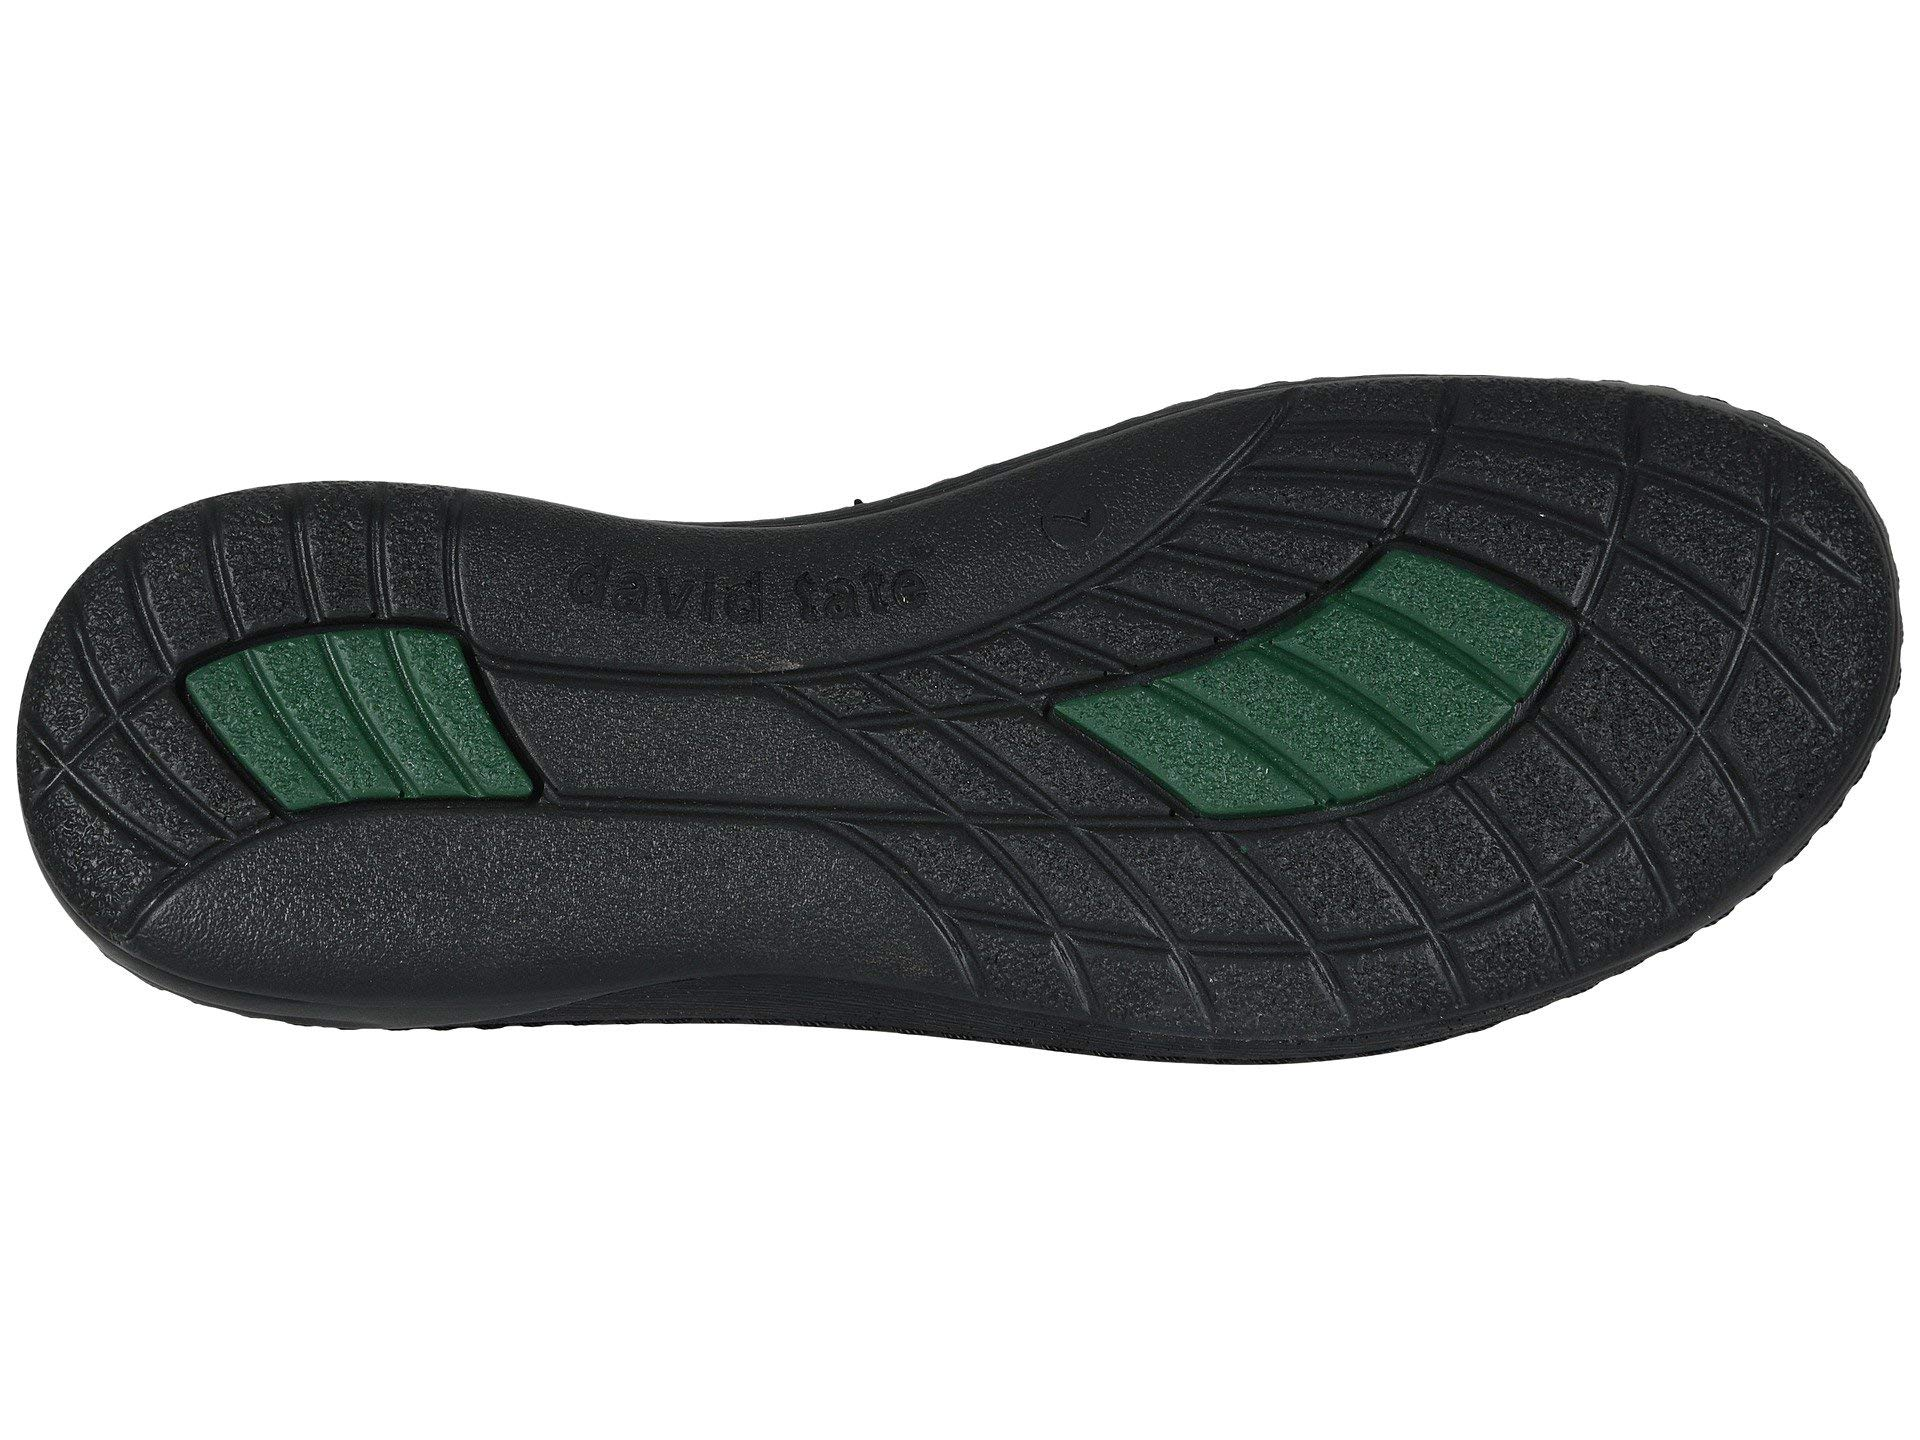circle: (547, 535, 966, 637)
quad: (807, 653, 1627, 1023), (1255, 407, 1775, 650), (107, 529, 528, 808)
text: (547, 535, 966, 637)
